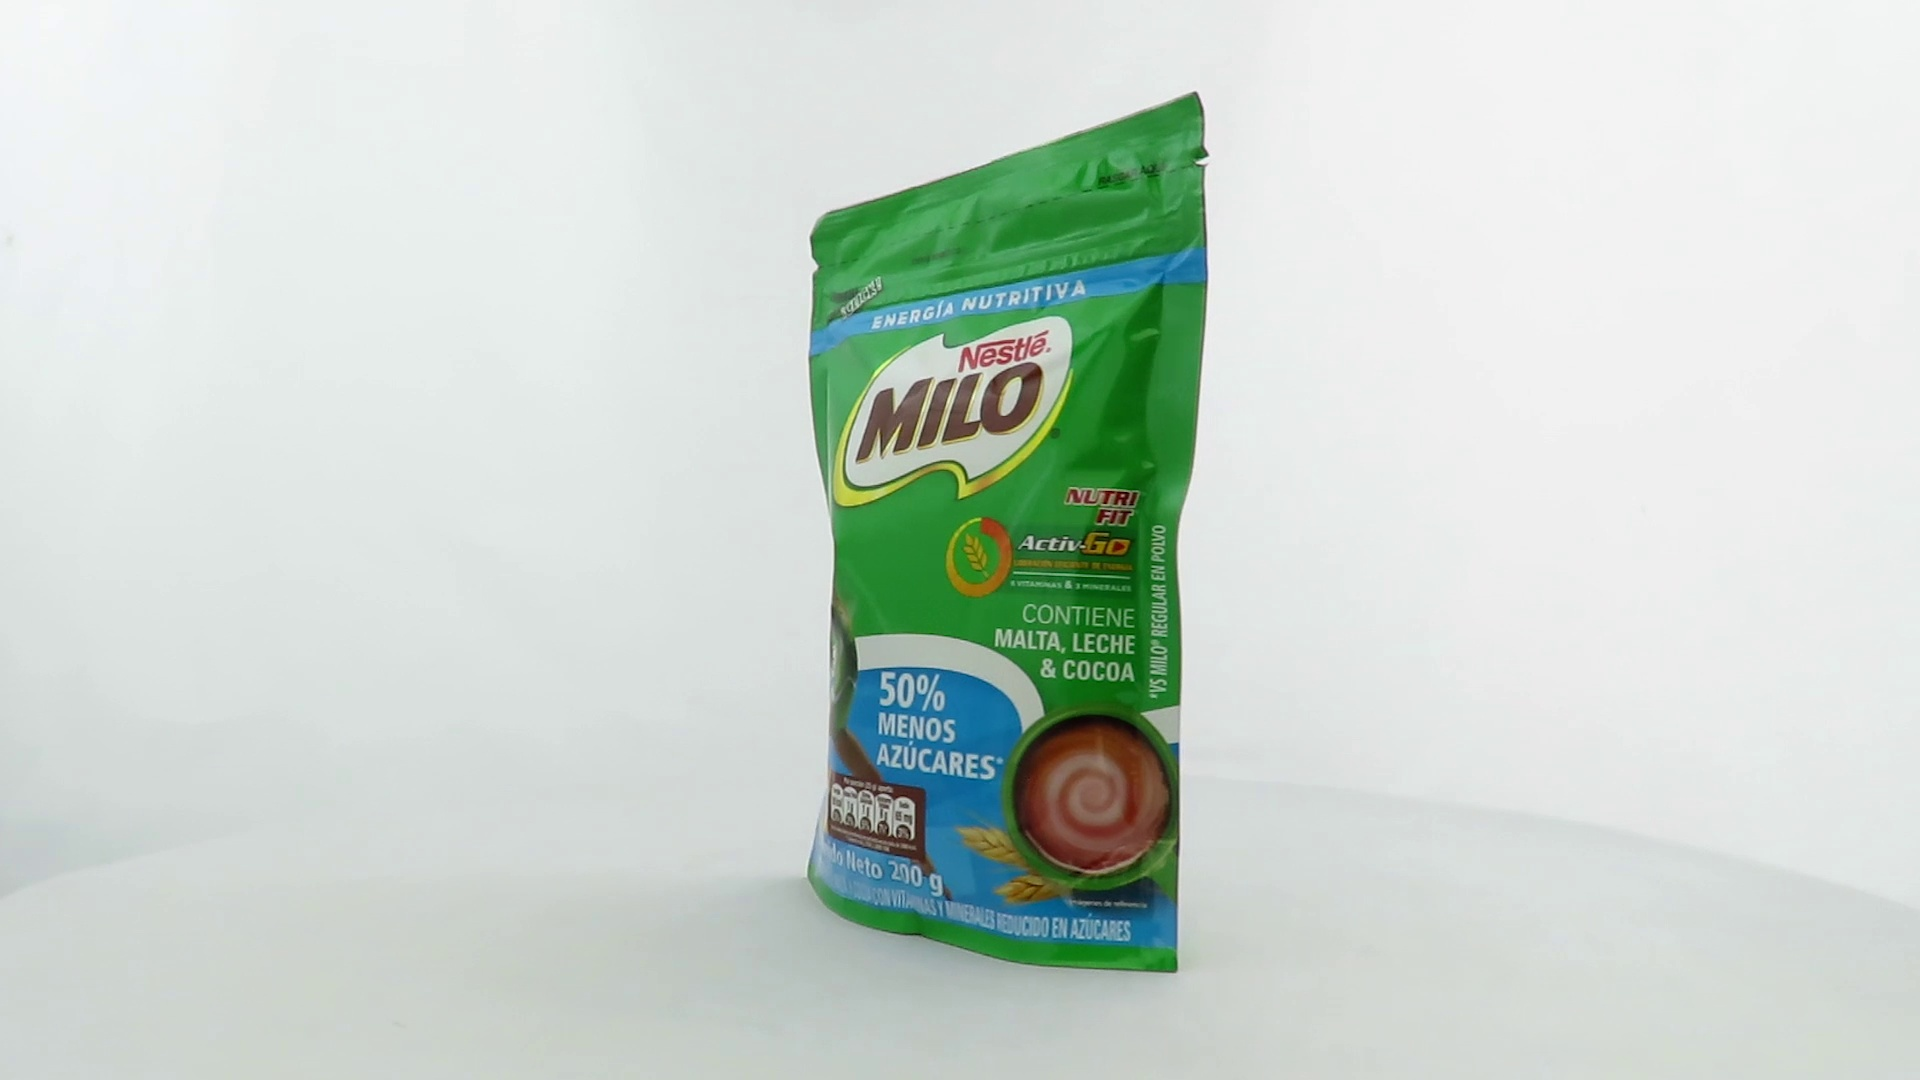COL0170205DYP20000: (793, 86, 1215, 980)
